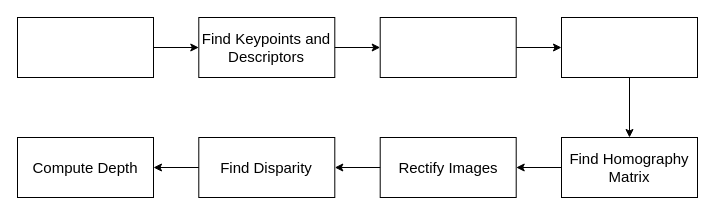
Some shapes in this 715 by 215 pixel diagram are drawn without their labels. The centre of each missing label's shape, as x and y in pixels:
"Find Fundamental Matrix" belongs at pixel 629 47.
"Find matching points" belongs at pixel 447 47.
"Read Stereo Data" belongs at pixel 85 47.
